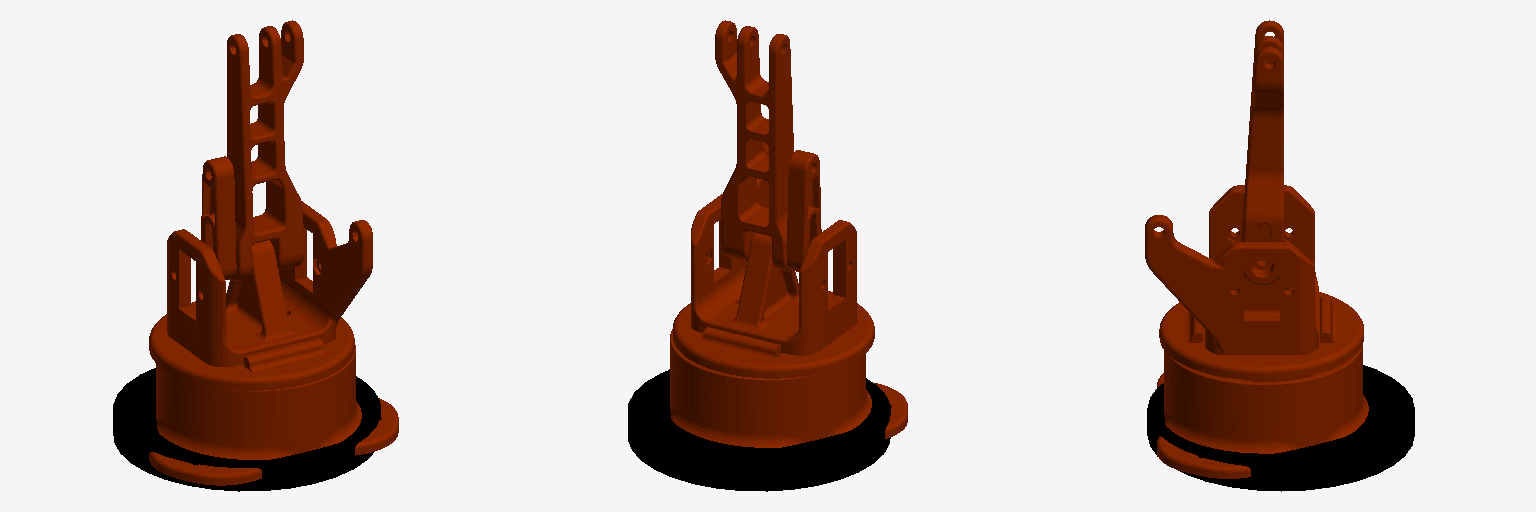
URDF robot description (visual):
<?xml version="1.0"?>
<robot name="visual">
    <link name="base_link">
        <visual>
            <geometry>
                <cylinder length="0.01" radius="0.047" />
            </geometry>
            <material name="black" />
            <origin rpy="0 0 0" xyz="0 0 0" />
        </visual>
    </link>
    <link name="arm_base_link">
        <visual>
            <geometry>
                <mesh filename="package://rtest/meshes/eezybotarm_base.stl" scale="0.001 0.001 0.001" />
            </geometry>
            <material name="orange" />
            <origin rpy="0 0 3.1416" xyz="0 0 0" />
        </visual>
    </link>
    <link name="arm_rotate_base_link">
        <visual>
            <geometry>
                <mesh filename="package://rtest/meshes/eezybotarm_rotate_base.stl" scale="0.001 0.001 0.001" />
            </geometry>
            <material name="orange" />
            <origin rpy="0 0 0" xyz="0 0 0" />
        </visual>
    </link>

    <link name="arm_forward_drive_link">
        <visual>
            <geometry>
                <mesh filename="package://rtest/meshes/eezybotarm_forward_drive.stl" scale="0.001 0.001 0.001" />
            </geometry>
            <material name="orange" />
            <origin rpy="0 0 0" xyz="0 0 0" />
        </visual>
    </link>

    <link name="arm_vertical_drive_link">
        <visual>
            <geometry>
                <mesh filename="package://rtest/meshes/eezybotarm_vertical_drive.stl" scale="0.001 0.001 0.001" />
            </geometry>
            <material name="orange" />
            <origin rpy="0 0 0" xyz="0 0 0" />
        </visual>
    </link>

    <joint name="base_joint" type="revolute">
        <axis xyz="0 0 -1" />
        <limit effort="1000.0" lower="0.0" upper="3.1416" velocity="1.0" />
        <origin rpy="0 0 0" xyz="0 0 0" />
        <parent link="base_link" />
        <child link="arm_base_link" />
    </joint>

    <joint name="rotate_base_joint" type="revolute">
        <axis xyz="1 0 0" />
        <limit effort="1000.0" lower="0.2618" upper="2.8798" velocity="1.0" />
        <origin rpy="-1.5708 0 0" xyz="0.002 0.006 0.032" />
        <parent link="arm_base_link" />
        <child link="arm_rotate_base_link" />
    </joint>

    <joint name="forward_drive_joint" type="revolute">
        <axis xyz="1 0 0" />
        <limit effort="1000.0" lower="0" upper="3.1416" velocity="1.0" />
        <origin rpy="-1.5708 -1.5708 3.14159" xyz="0.0015 -0.005 0.074" />
        <parent link="arm_rotate_base_link" />
        <child link="arm_forward_drive_link" />
    </joint>

    <joint name="vertical_drive_joint" type="revolute">
        <axis xyz="1 0 0" />
        <limit effort="1000.0" lower="0" upper="3.1416" velocity="1.0" />
        <origin rpy="1.5708 1.5708 -1.5708" xyz="-0.0135 -0.012 0.052" />
        <parent link="arm_rotate_base_link" />
        <child link="arm_vertical_drive_link" />
    </joint>

    <material name="orange">
        <color rgba="0.57 0.17 0.0 1" />
    </material>
    <material name="white">
        <color rgba="0.8 0.8 0.8 1.0" />
    </material>
    <material name="black">
        <color rgba="0 0 0 0.50" />
    </material>
</robot>

--- What the picture shows (computed from the rendered views, not written in the file) ---
3 views of the same robot in one strip: view 1: azimuth 30°, elevation 25°; view 2: azimuth 150°, elevation 25°; view 3: azimuth 270°, elevation 25° (orthographic).
Model visual with 5 links and 4 joints (4 revolute), rooted at base_link, posed all joints at 0 but 1 set to mid-range because 0 is outside their limits (rotate_base_joint = 1.57).
Visible links, largest first — view 1: arm_rotate_base_link, arm_base_link, arm_forward_drive_link, base_link, arm_vertical_drive_link; view 2: arm_rotate_base_link, arm_base_link, base_link, arm_forward_drive_link, arm_vertical_drive_link; view 3: arm_rotate_base_link, arm_base_link, base_link, arm_forward_drive_link.
Link boxes in pixels (x1,y1,x2,y2): arm_rotate_base_link: (149,201,372,390); arm_base_link: (149,345,398,485); arm_forward_drive_link: (227,20,303,280); base_link: (113,368,380,491); arm_vertical_drive_link: (201,156,236,279); arm_rotate_base_link: (673,142,874,378); arm_base_link: (669,329,907,447); base_link: (628,370,890,491); arm_forward_drive_link: (715,20,793,271); arm_vertical_drive_link: (787,150,821,271); arm_rotate_base_link: (1145,185,1363,379); arm_base_link: (1157,345,1368,478); base_link: (1147,365,1414,491); arm_forward_drive_link: (1241,20,1283,284).
Size in the robot's own frame: 0.0947 by 0.0948 by 0.1572 metres.
Meshes: 4 distinct files referenced, 4 mesh visuals loaded (4 binary STL).